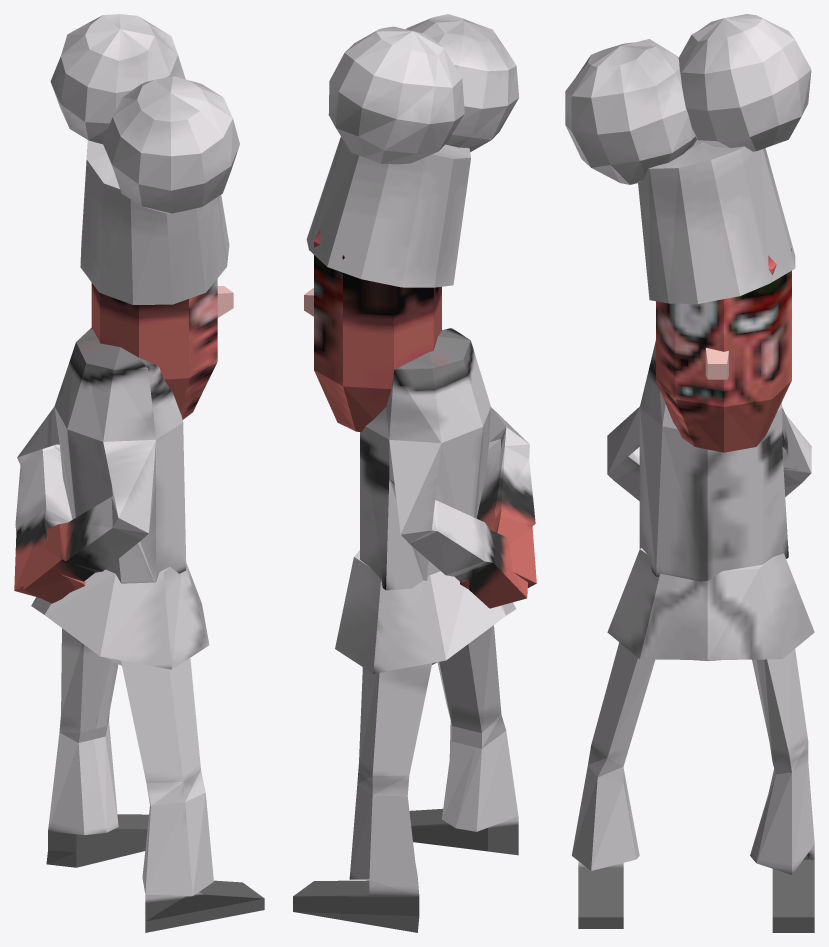
File: Bad1Cook.glb
3 views of the same model, side by side, from view 1: azimuth 30°, elevation 25°; view 2: azimuth 150°, elevation 25°; view 3: azimuth 270°, elevation 25° (orthographic). The views are drawn at different scales.
Visible parts, largest first — view 1: Bad1Cook; view 2: Bad1Cook; view 3: Bad1Cook.
Part boxes in pixels (x1,y1,x2,y2): Bad1Cook: [14, 14, 264, 932]; Bad1Cook: [293, 14, 536, 932]; Bad1Cook: [565, 14, 814, 932].
Bounding box in the file's own units: 25.98 × 98.41 × 25.35.
Materials: 1 (1 with a texture image).
